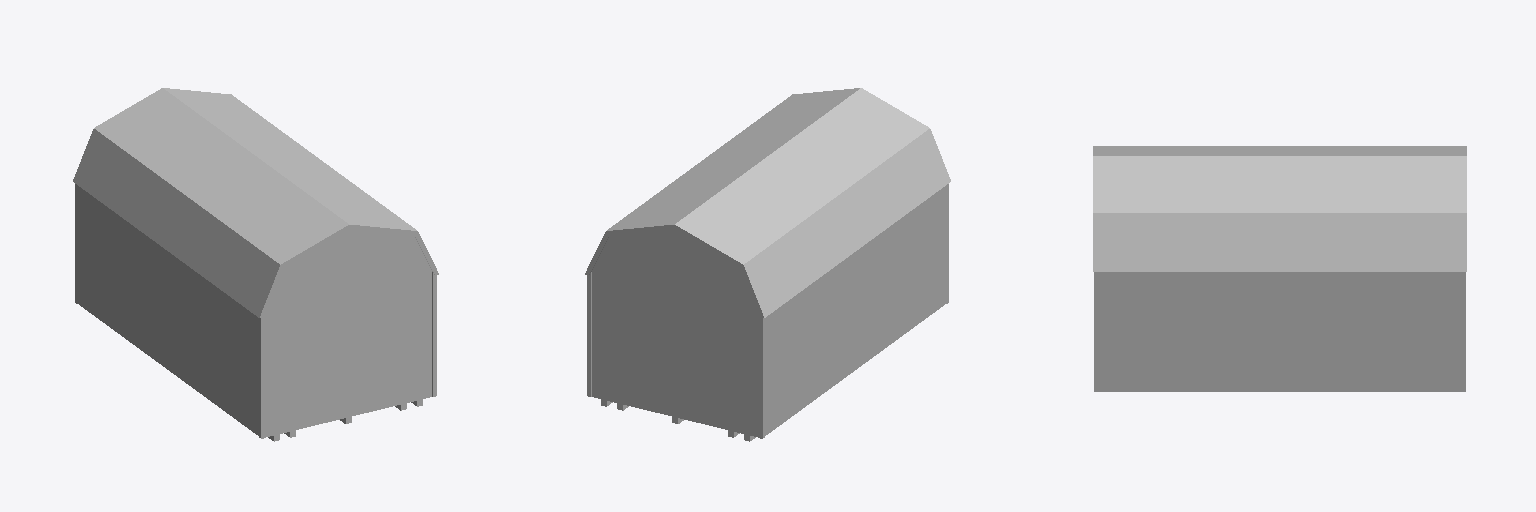
Rendered from Dutch Barn_10x18.obj.
3 views of the same model, side by side, from view 1: azimuth 30°, elevation 25°; view 2: azimuth 150°, elevation 25°; view 3: azimuth 270°, elevation 25° (orthographic).
Parts seen in each view (by area): view 1: Dutch Barn_10x18.obj; view 2: Dutch Barn_10x18.obj; view 3: Dutch Barn_10x18.obj.
Part boxes in pixels (x1,y1,x2,y2): Dutch Barn_10x18.obj: (73,88,438,441); Dutch Barn_10x18.obj: (585,88,950,441); Dutch Barn_10x18.obj: (1093,146,1466,391).
Size of the model in its own units: 3.08 by 3.27 by 5.54.